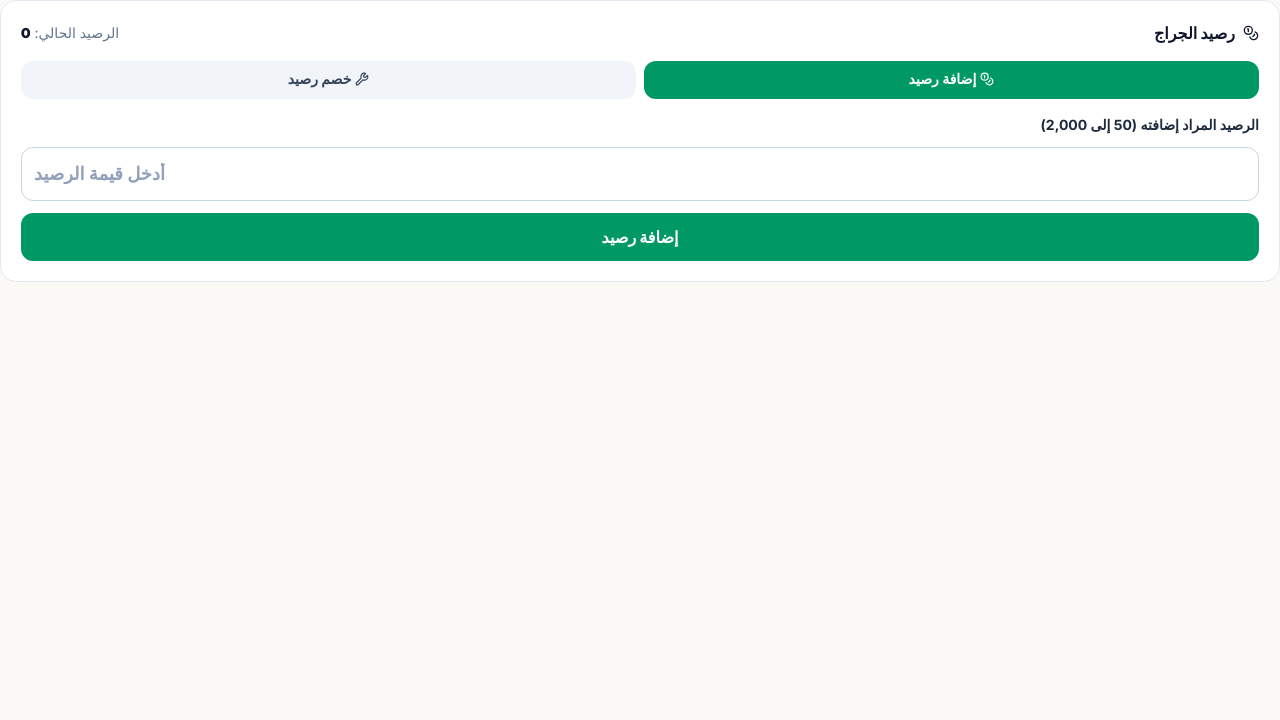
AdminCreditGrantPanel › requires a valid whole-number grant amount
The width and height of the screenshot is (1280, 720).
Click the button "إضافة رصيد". click: (640, 237)
box: 21,213 -> 1259,261
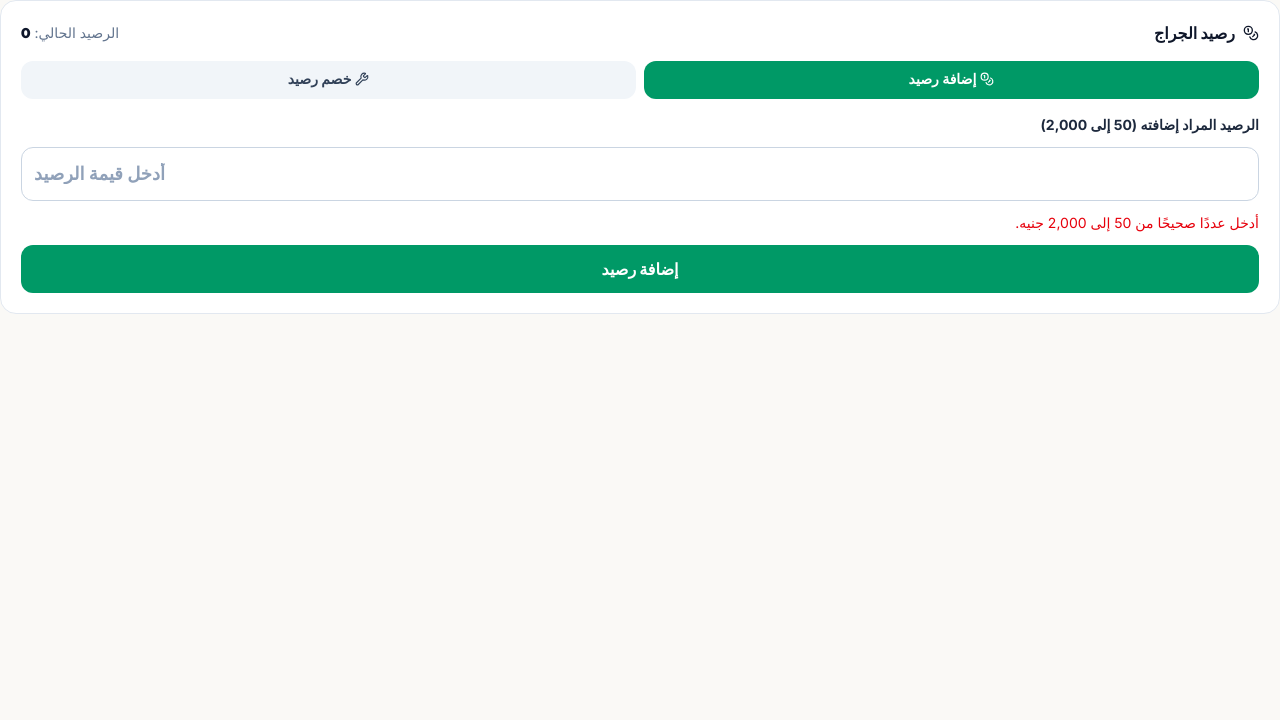
Expected: the message shows "أدخل عددًا صحيحًا من 50 إلى 2,000", 1015,214 -> 1259,231
